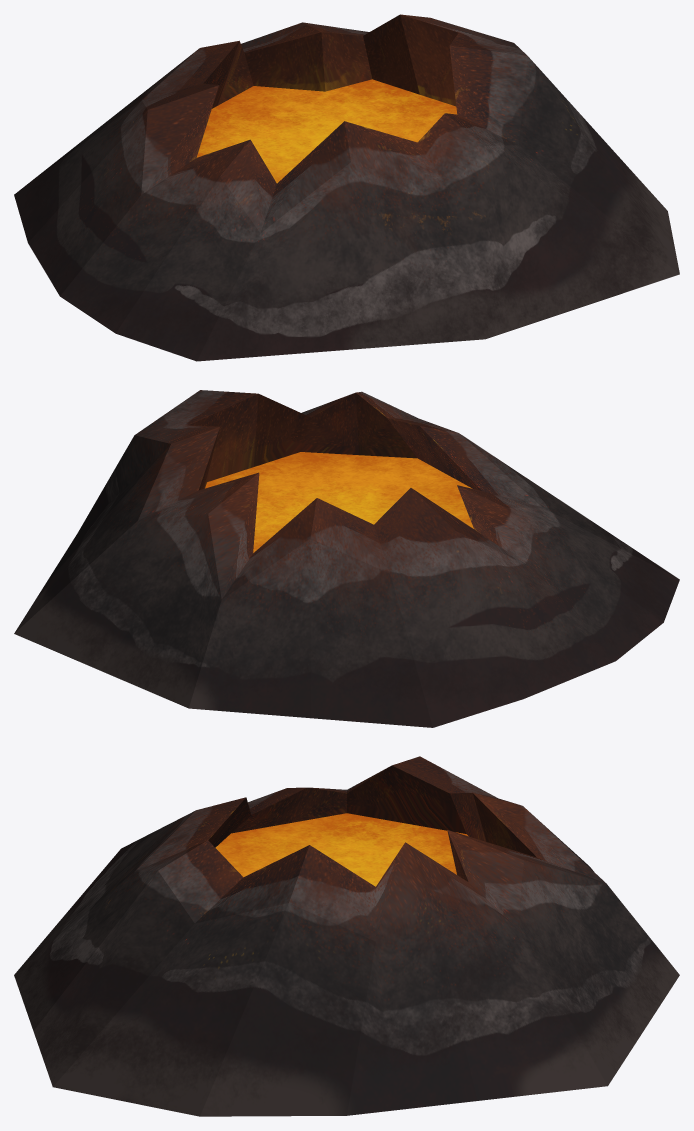
The model's file is lava_crater_002.obj.
3 renders of one model, top to bottom at view 1: azimuth 30°, elevation 25°; view 2: azimuth 150°, elevation 25°; view 3: azimuth 270°, elevation 25°, orthographic. The views are drawn at different scales.
Visible parts, largest first — view 1: lava_crater_002_GEO; view 2: lava_crater_002_GEO; view 3: lava_crater_002_GEO.
Part boxes in pixels (box(x1,y1,x2,y2)): lava_crater_002_GEO: box(14, 14, 679, 361); lava_crater_002_GEO: box(14, 390, 679, 727); lava_crater_002_GEO: box(14, 756, 679, 1116).
Size of the model in its own units: 2.67 by 0.795 by 2.62.
1 material, 1 textured.
